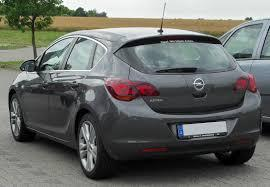opel: (194, 78, 205, 92)
